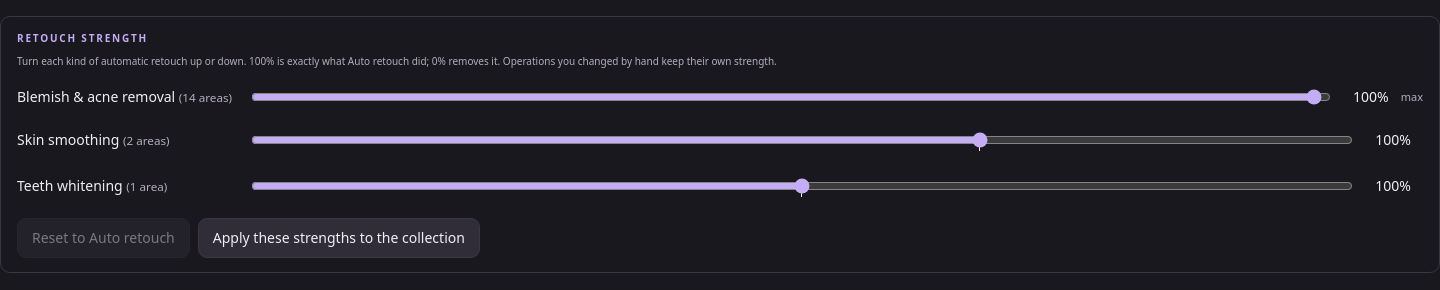
Test case: saves a slider once it is released, not on every step of the drag
Set the slider named "Skin smoothing strength" to "60" at (693, 140), box [251, 122, 1353, 158]
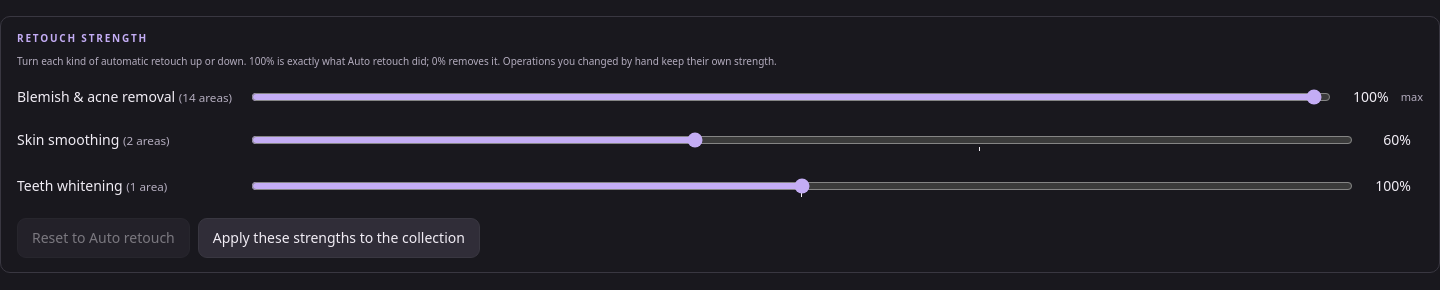
Set the slider named "Skin smoothing strength" to "40" at (549, 140), box [251, 122, 1353, 158]
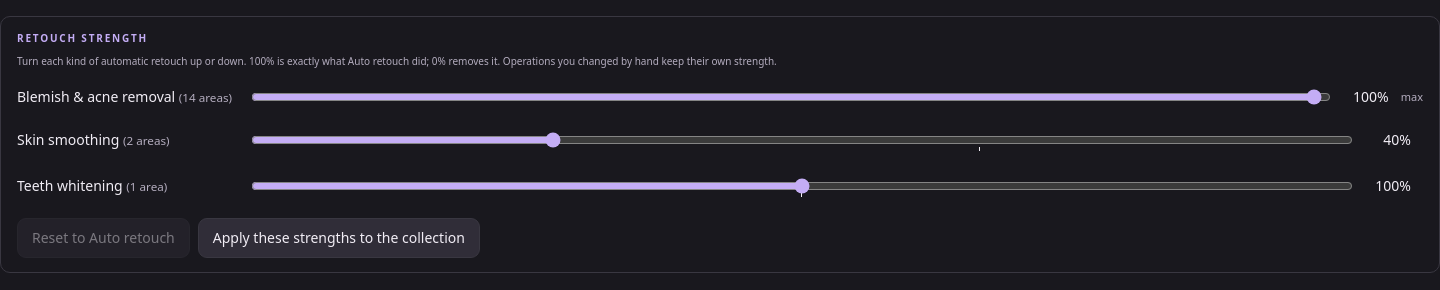
Now the text "40%" is shown, box [1383, 130, 1411, 149]
